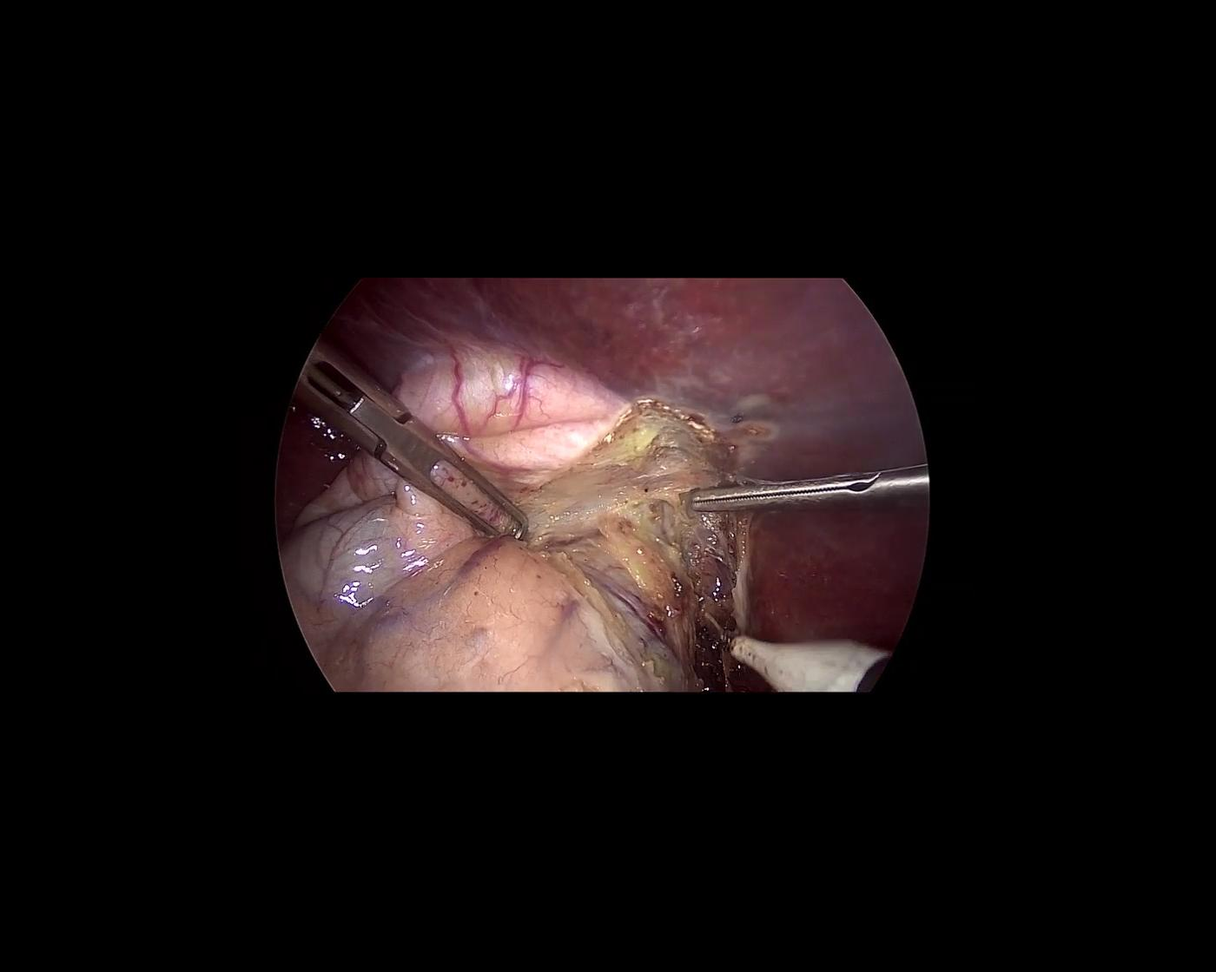Cautery: (697, 614, 894, 708)
Forceps: (278, 340, 535, 573), (690, 465, 931, 511)
Gallbladder: (274, 354, 697, 692)
Liver: (320, 280, 926, 653)
